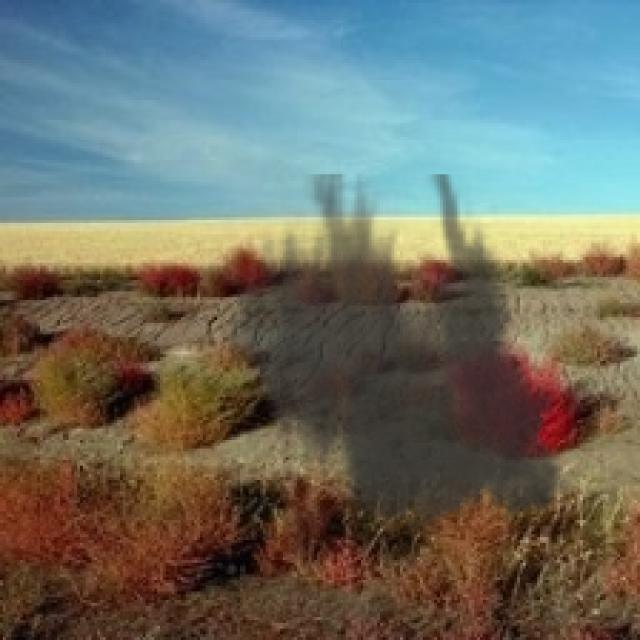Smoke: (215, 174, 580, 549)
